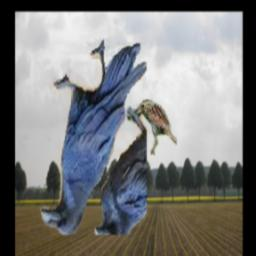Crow: (38, 39, 147, 236)
Sparrow: (136, 100, 177, 156)
